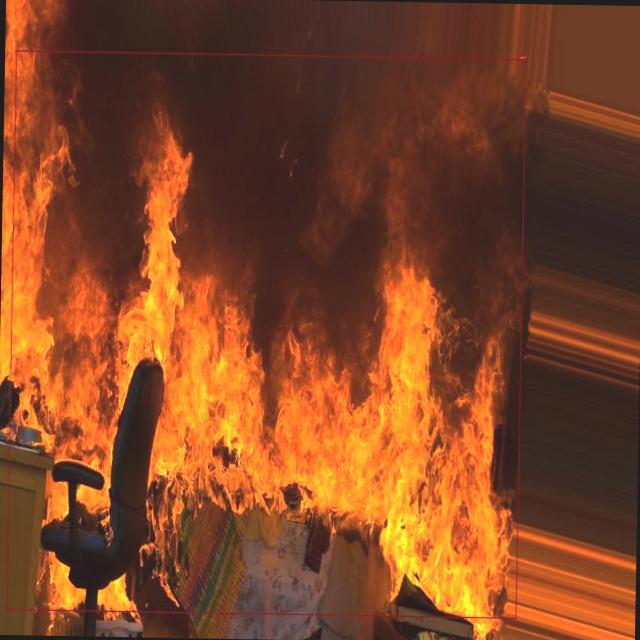fire: (6, 49, 526, 618)
